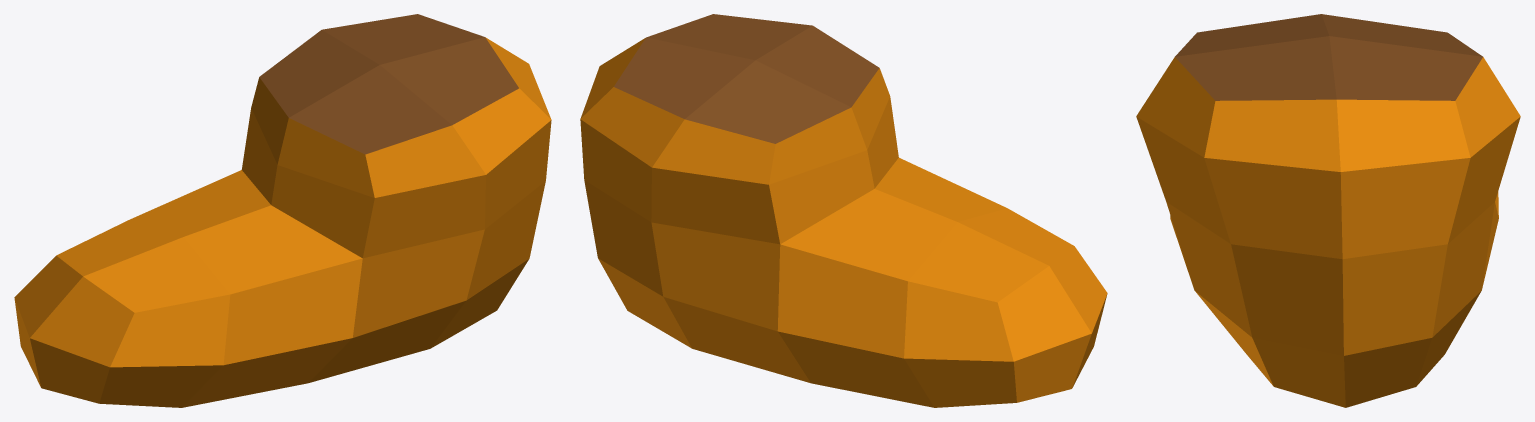
File: horseshoe.fbx
3 renders of one model, left to right at view 1: azimuth 30°, elevation 25°; view 2: azimuth 150°, elevation 25°; view 3: azimuth 270°, elevation 25°, orthographic. The views are drawn at different scales.
Visible parts, largest first — view 1: Cube; view 2: Cube; view 3: Cube.
Part boxes in pixels (bbox=[...]): Cube: bbox=[14, 14, 551, 407]; Cube: bbox=[580, 14, 1107, 407]; Cube: bbox=[1136, 14, 1520, 407].
Size of the model in its own units: 523 by 282 by 293.
